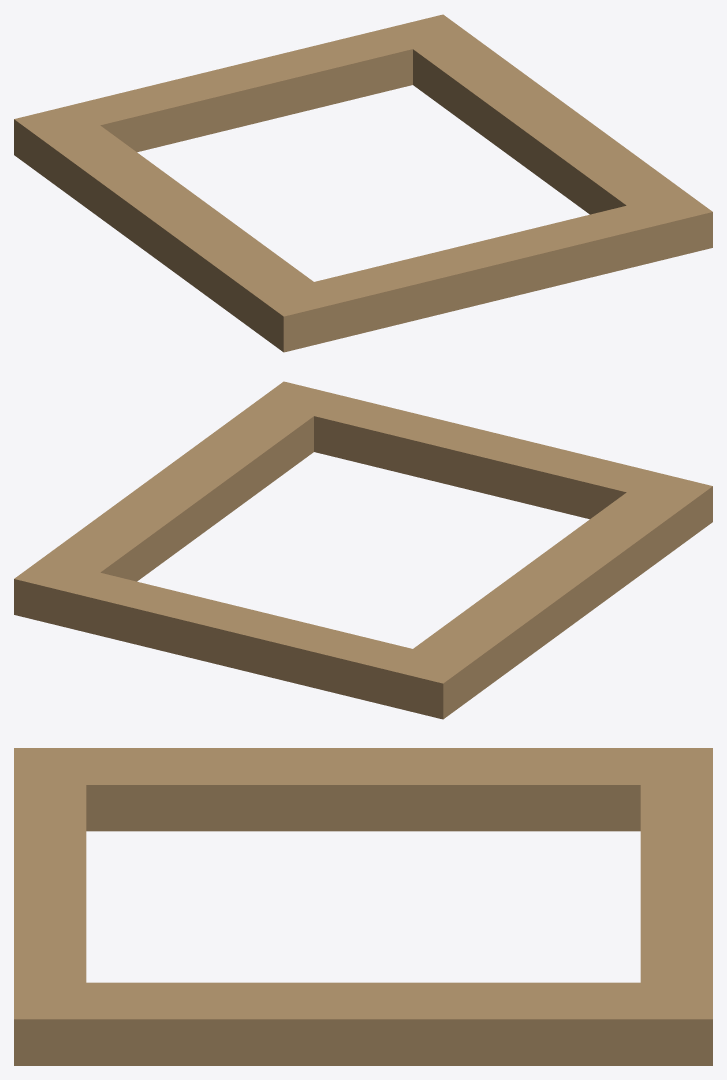
The model's file is keep-wd02_49.obj.
3 renders of one model, top to bottom at view 1: azimuth 30°, elevation 25°; view 2: azimuth 150°, elevation 25°; view 3: azimuth 270°, elevation 25°, orthographic. The views are drawn at different scales.
Size of the model in its own units: 0.375 by 0.03 by 0.4083.
Materials: 1 (1 with a texture image).
